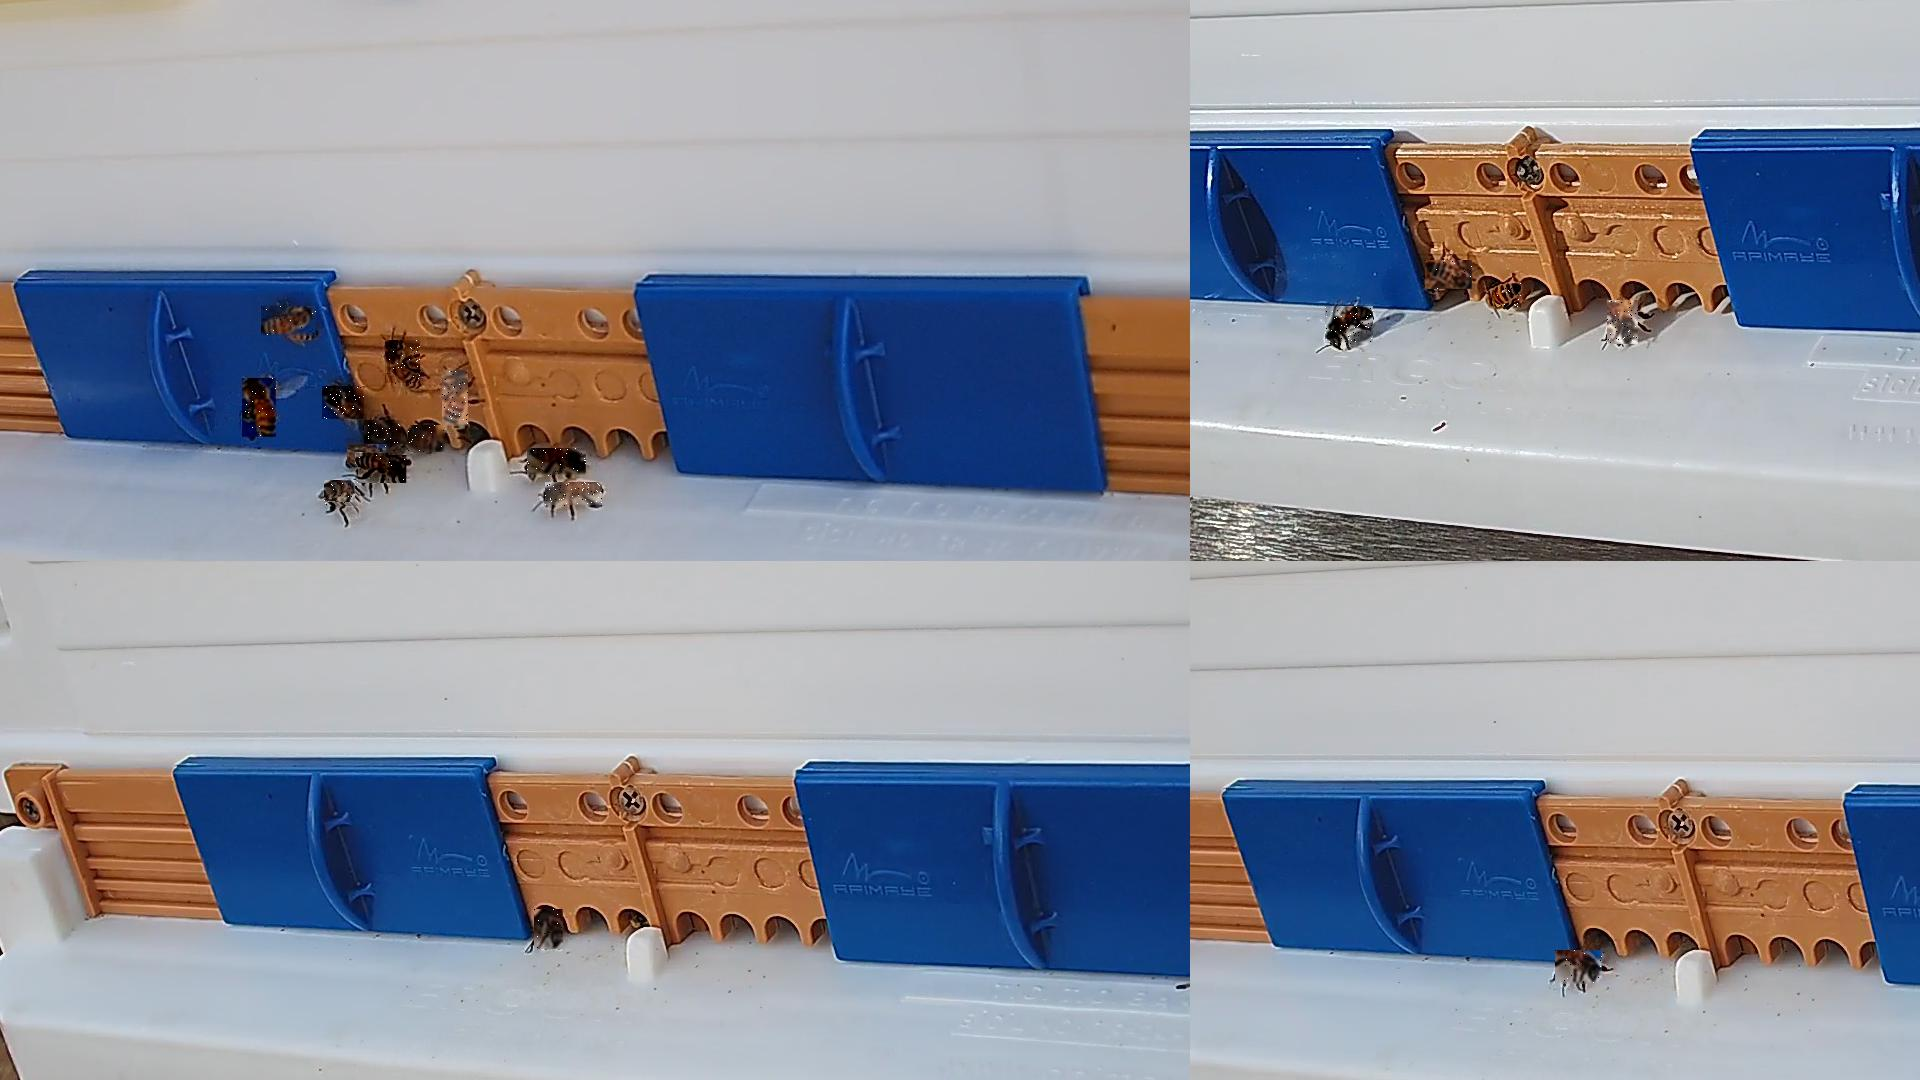bee: (243, 378, 277, 438), (1325, 307, 1374, 345), (261, 307, 316, 339), (1555, 951, 1604, 986), (527, 448, 587, 477), (442, 371, 469, 429), (385, 342, 421, 386), (323, 386, 368, 421), (359, 455, 411, 484), (545, 483, 603, 508), (1425, 260, 1473, 290), (1607, 301, 1639, 345), (534, 909, 564, 949), (409, 425, 447, 454), (348, 444, 390, 468), (365, 421, 404, 446), (324, 481, 360, 506), (1489, 284, 1522, 309)
